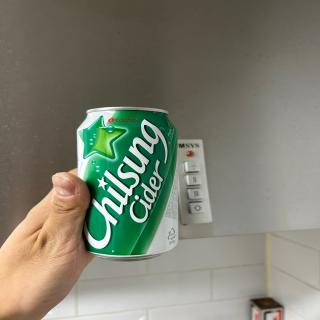chilsung: (75, 104, 182, 262)
